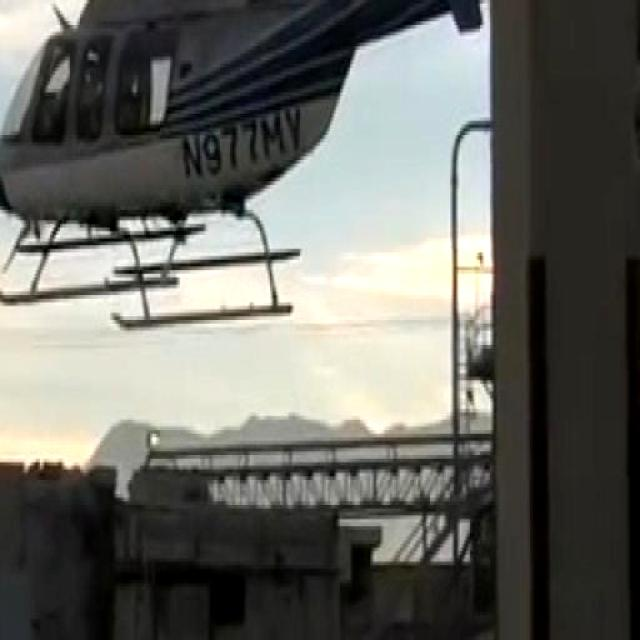drone: (0, 0, 492, 331)
